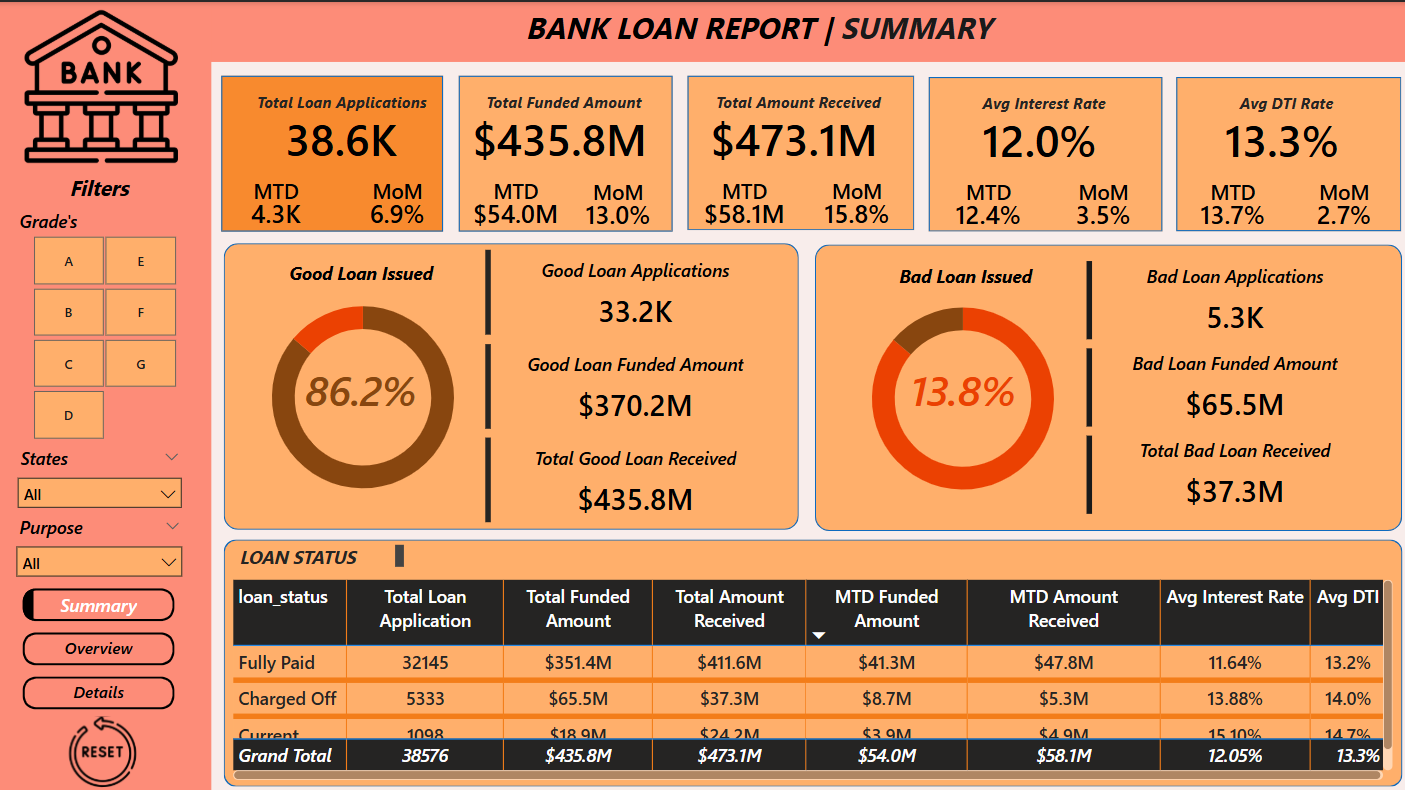

The page's visual inventory and layout, read from the dashboard file:
{"tool":"powerbi","page":{"name":"Summary","canvas":[1280,720],"ordinal":0},"visuals":[{"type":"shape","box":[202.6,487.3,1069.4,224.4],"z":0},{"type":"shape","box":[416,67.1,194.1,141.4],"z":1000,"group":"g1"},{"type":"shape","box":[623.5,67.1,205.8,140.3],"z":1000,"group":"g2"},{"type":"shape","box":[842.3,68.1,212,140.3],"z":1000,"group":"g3"},{"type":"shape","box":[1067.3,68.1,204.2,139.9],"z":1000,"group":"g4"},{"type":"shape","box":[202.6,219.4,521.9,259.9],"z":1000},{"type":"donutChart","fields":{"Category":["financial_loan.Good VS Bad Loan"],"Y":["financial_loan.Total Loan Application"]},"box":[194.7,251.1,268.8,216.5],"z":2000},{"type":"shape","box":[0,0,1280,54.5],"z":3000},{"type":"shape","box":[201.3,67.1,201.3,141.4],"z":4000},{"type":"card","title":"MTD","fields":{"Values":["financial_loan.MTD Funded Amount"]},"box":[422.9,158.9,89.8,49.5],"z":4000,"group":"g1"},{"type":"card","title":"MTD","fields":{"Values":["financial_loan.MTD Amount Received"]},"box":[630.9,159,89.6,48.4],"z":4000,"group":"g2"},{"type":"card","title":"MTD","fields":{"Values":["financial_loan.MTD Funded Amount"]},"box":[208.6,159.5,83.2,49.5],"z":4000,"group":"g5"},{"type":"card","title":"MTD","fields":{"Values":["financial_loan.MTD Avg DTI"]},"box":[1074.6,159.7,88.9,48.2],"z":4000,"group":"g4"},{"type":"card","title":"MTD","fields":{"Values":["financial_loan.MTD Avg Interest Rate"]},"box":[849.9,160,92.3,48.4],"z":4000,"group":"g3"},{"type":"shape","box":[0,0,191.7,720.5],"z":5000},{"type":"card","title":"MoM","fields":{"Values":["financial_loan.MOM Loan Applications"]},"box":[318,159,83.6,49.5],"z":5000,"group":"g5"},{"type":"card","title":"MoM","fields":{"Values":["financial_loan.MoM Amount Received"]},"box":[734.7,159,85.2,48.4],"z":5000,"group":"g2"},{"type":"card","title":"MoM","fields":{"Values":["financial_loan.MOM Funded Amount"]},"box":[520.8,159.7,80.4,48.8],"z":5000,"group":"g1"},{"type":"card","title":"MoM","fields":{"Values":["financial_loan.MoM Avg DTI"]},"box":[1177.6,159.7,84.6,48.2],"z":5000,"group":"g4"},{"type":"card","title":"MoM","fields":{"Values":["financial_loan.MOM Avg Interest Rate"]},"box":[956.8,160,87.8,48.4],"z":5000,"group":"g3"},{"type":"textbox","box":[343,0,691.7,85.2],"z":6000},{"type":"textbox","box":[217.8,76.4,184.8,45.4],"z":6000,"group":"g5"},{"type":"textbox","box":[630.9,76.4,187.9,44.8],"z":7000,"group":"g2"},{"type":"textbox","box":[422.9,76.5,177.2,45.2],"z":7000,"group":"g1"},{"type":"textbox","box":[849.9,77.4,193.6,44.8],"z":7000,"group":"g3"},{"type":"textbox","box":[1074.6,77.4,186.5,44.7],"z":7000,"group":"g4"},{"type":"card","fields":{"Values":["financial_loan.Total Loan Application"]},"box":[200.3,99.1,217.8,50.6],"z":7000,"group":"g5"},{"type":"textbox","box":[42.5,151.2,94.9,45.5],"z":7000},{"type":"group","id":"g1","title":"Group 1","box":[416,67.1,194.1,141.4],"z":8000},{"type":"card","fields":{"Values":["financial_loan.Total Amount Received"]},"box":[630.8,98.5,179.8,50.5],"z":8000,"group":"g2"},{"type":"card","fields":{"Values":["financial_loan.Total Funded Amount"]},"box":[422.9,98.8,169.6,50.9],"z":8000,"group":"g1"},{"type":"card","fields":{"Values":["financial_loan.Avg DTI"]},"box":[1074.5,99.4,178.5,50.4],"z":8000,"group":"g4"},{"type":"card","fields":{"Values":["financial_loan.Avg Interest Rate"]},"box":[849.8,99.5,185.2,50.5],"z":8000,"group":"g3"},{"type":"group","id":"g2","title":"Group 1","box":[623.5,67.1,205.4,140.4],"z":9000},{"type":"group","id":"g3","title":"Group 1","box":[842.3,68.1,211.6,140.4],"z":10000},{"type":"group","id":"g4","title":"Group 1","box":[1067.3,68.1,204.4,140.4],"z":11000},{"type":"group","id":"g5","title":"Group 2","box":[200.3,76.4,217.8,132.6],"z":12000},{"type":"card","fields":{"Values":["financial_loan.Good Loan %"]},"box":[250.1,326.2,156.2,50.4],"z":13000},{"type":"shape","box":[739.3,220.4,532.7,259.9],"z":14000},{"type":"textbox","box":[257,230.3,159.1,37.6],"z":15000},{"type":"cardVisual","fields":{"Data":["financial_loan.Good Loan Applications","financial_loan.Good Loan Funded Amount","financial_loan.Total Good Loan Received"]},"box":[435.9,220.4,274.8,259],"z":16000},{"type":"donutChart","fields":{"Category":["financial_loan.Good VS Bad Loan"],"Y":["financial_loan.Total Loan Application"]},"box":[739.3,252,268.8,216.5],"z":17000},{"type":"card","fields":{"Values":["financial_loan.Bad Loan %"]},"box":[795.7,327.2,156.2,50.4],"z":18000},{"type":"textbox","box":[810.5,232.3,162.1,38.5],"z":19000},{"type":"cardVisual","fields":{"Data":["financial_loan.Bad Loan Applications","financial_loan.Bad Loan Funded Amount","financial_loan.Total Bad Loan Received"]},"box":[981.5,230.3,273.8,240.2],"z":20000},{"type":"tableEx","fields":{"Values":["financial_loan.loan_status","financial_loan.Total Loan Application","financial_loan.Total Funded Amount","financial_loan.Total Amount Received","financial_loan.MTD Funded Amount","financial_loan.MTD Amount Received","financial_loan.Avg Interest Rate","financial_loan.Avg DTI"]},"box":[205.6,519.9,1063.5,191.7],"z":21000},{"type":"textbox","box":[212.5,487.3,159.1,30.6],"z":22000},{"type":"slicer","fields":{"Values":["financial_loan.grade"]},"box":[4.9,182.9,178.9,220.4],"z":23000},{"type":"slicer","fields":{"Values":["financial_loan.address_state"]},"box":[5.9,398.3,169,70.2],"z":24000},{"type":"slicer","fields":{"Values":["financial_loan.purpose"]},"box":[4.9,460.6,171,70.2],"z":25000},{"type":"actionButton","box":[42.5,642.5,96.9,77.1],"z":26000},{"type":"image","box":[15.8,2,152.2,149.2],"z":27000},{"type":"pageNavigator","box":[20.8,531.8,138.4,110.7],"z":28000}]}

Visuals, with their boxes in screenshot pixels (x1, y1, x2, y2), scaled from the page's 1280x720 canvas onto the 1405x790 screenshot:
shape: <region>222, 535, 1396, 781</region>
shape: <region>457, 74, 670, 229</region>
shape: <region>684, 74, 910, 228</region>
shape: <region>925, 75, 1157, 229</region>
shape: <region>1172, 75, 1396, 228</region>
shape: <region>222, 241, 795, 526</region>
donutChart - financial_loan.Good VS Bad Loan x financial_loan.Total Loan Application: <region>214, 276, 509, 513</region>
shape: <region>0, 0, 1404, 60</region>
shape: <region>221, 74, 442, 229</region>
"MTD" card: <region>464, 174, 563, 229</region>
"MTD" card: <region>693, 174, 791, 228</region>
"MTD" card: <region>229, 175, 320, 229</region>
"MTD" card: <region>1180, 175, 1277, 228</region>
"MTD" card: <region>933, 176, 1034, 229</region>
shape: <region>0, 0, 210, 789</region>
"MoM" card: <region>349, 174, 441, 229</region>
"MoM" card: <region>806, 174, 900, 228</region>
"MoM" card: <region>572, 175, 660, 229</region>
"MoM" card: <region>1293, 175, 1385, 228</region>
"MoM" card: <region>1050, 176, 1147, 229</region>
textbox: <region>376, 0, 1136, 93</region>
textbox: <region>239, 84, 442, 134</region>
textbox: <region>693, 84, 899, 133</region>
textbox: <region>464, 84, 659, 134</region>
textbox: <region>933, 85, 1145, 134</region>
textbox: <region>1180, 85, 1384, 134</region>
card - financial_loan.Total Loan Application: <region>220, 109, 459, 164</region>
textbox: <region>47, 166, 151, 216</region>
"Group 1" group: <region>457, 74, 670, 229</region>
card - financial_loan.Total Amount Received: <region>692, 108, 890, 163</region>
card - financial_loan.Total Funded Amount: <region>464, 108, 650, 164</region>
card - financial_loan.Avg DTI: <region>1179, 109, 1375, 164</region>
card - financial_loan.Avg Interest Rate: <region>933, 109, 1136, 165</region>
"Group 1" group: <region>684, 74, 910, 228</region>
"Group 1" group: <region>925, 75, 1157, 229</region>
"Group 1" group: <region>1172, 75, 1396, 229</region>
"Group 2" group: <region>220, 84, 459, 229</region>
card - financial_loan.Good Loan %: <region>275, 358, 446, 413</region>
shape: <region>811, 242, 1396, 527</region>
textbox: <region>282, 253, 457, 294</region>
cardVisual - financial_loan.Good Loan Applications x financial_loan.Good Loan Funded Amount: <region>478, 242, 780, 526</region>
donutChart - financial_loan.Good VS Bad Loan x financial_loan.Total Loan Application: <region>811, 276, 1107, 514</region>
card - financial_loan.Bad Loan %: <region>873, 359, 1045, 414</region>
textbox: <region>890, 255, 1068, 297</region>
cardVisual - financial_loan.Bad Loan Applications x financial_loan.Bad Loan Funded Amount: <region>1077, 253, 1378, 516</region>
tableEx - financial_loan.loan_status x financial_loan.Total Loan Application: <region>226, 570, 1393, 781</region>
textbox: <region>233, 535, 408, 568</region>
slicer - financial_loan.grade: <region>5, 201, 202, 443</region>
slicer - financial_loan.address_state: <region>6, 437, 192, 514</region>
slicer - financial_loan.purpose: <region>5, 505, 193, 582</region>
actionButton: <region>47, 705, 153, 789</region>
image: <region>17, 2, 184, 166</region>
pageNavigator: <region>23, 584, 175, 705</region>
